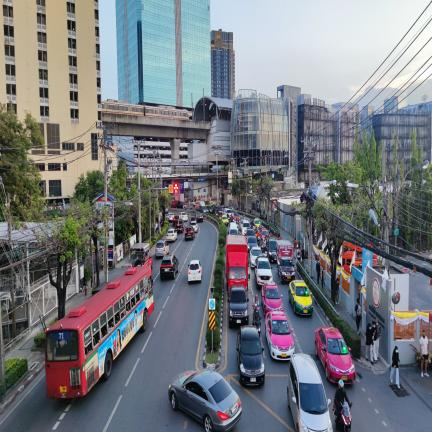bus: (45, 266, 154, 398)
car: (168, 370, 242, 432), (287, 353, 332, 432), (237, 326, 265, 385), (228, 284, 249, 328), (160, 255, 179, 280), (188, 260, 202, 283), (249, 246, 262, 268), (155, 240, 169, 257), (247, 235, 258, 253), (239, 219, 250, 235), (184, 227, 195, 241), (166, 228, 177, 241), (260, 229, 270, 241), (175, 220, 184, 233), (175, 201, 187, 210), (245, 228, 255, 238), (214, 206, 223, 217), (190, 221, 198, 232), (173, 215, 180, 227), (234, 211, 241, 223), (180, 212, 188, 222), (206, 205, 214, 214), (189, 216, 197, 225), (196, 213, 204, 222), (167, 212, 174, 222), (170, 201, 176, 208), (165, 209, 169, 215)
human: (334, 379, 352, 430), (419, 330, 429, 377), (390, 346, 400, 388), (365, 323, 374, 364), (355, 298, 362, 335), (372, 322, 378, 363), (374, 319, 380, 359), (253, 305, 260, 325), (335, 279, 340, 304), (316, 260, 321, 284), (320, 266, 325, 290), (117, 329, 122, 353), (134, 310, 138, 332), (296, 245, 301, 262), (254, 295, 260, 308), (301, 245, 305, 263), (293, 240, 297, 251), (371, 355, 372, 361), (375, 361, 376, 363), (371, 362, 372, 362)
motorbike: (333, 401, 352, 432), (253, 316, 261, 336)
pickup: (276, 240, 295, 283), (130, 243, 153, 269), (255, 256, 273, 286), (196, 201, 208, 213), (196, 201, 205, 209), (200, 207, 209, 214)
taxi: (315, 327, 355, 384), (265, 311, 294, 360), (289, 280, 313, 315), (261, 282, 283, 315), (260, 229, 270, 241), (220, 215, 229, 226), (253, 218, 261, 229)
truck: (226, 235, 250, 295)
van: (267, 236, 277, 262), (228, 222, 238, 235)
